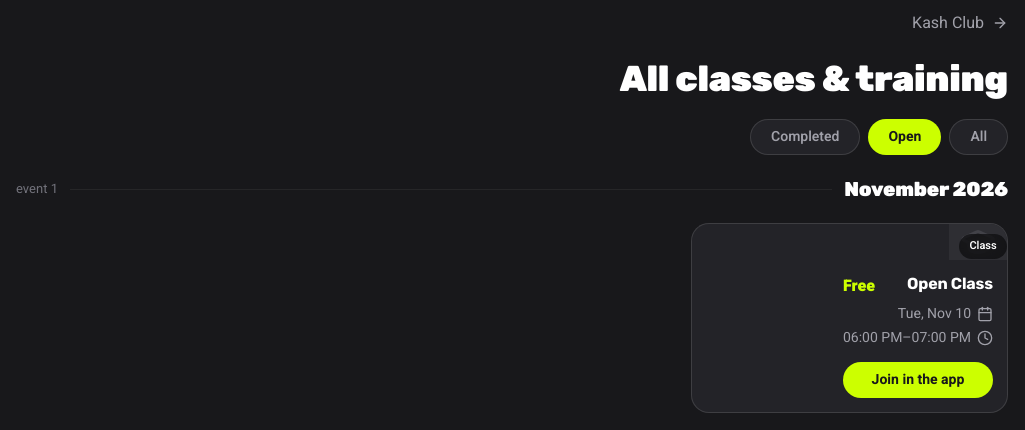
Test case: ClubEventsPage › clicking Completed lazily fetches the past list
The image size is (1025, 430).
Expected: the heading "Open Class" is shown, left=907, top=274, right=993, bottom=293
Click the button "Completed": click(805, 137) left=750, top=119, right=860, bottom=155
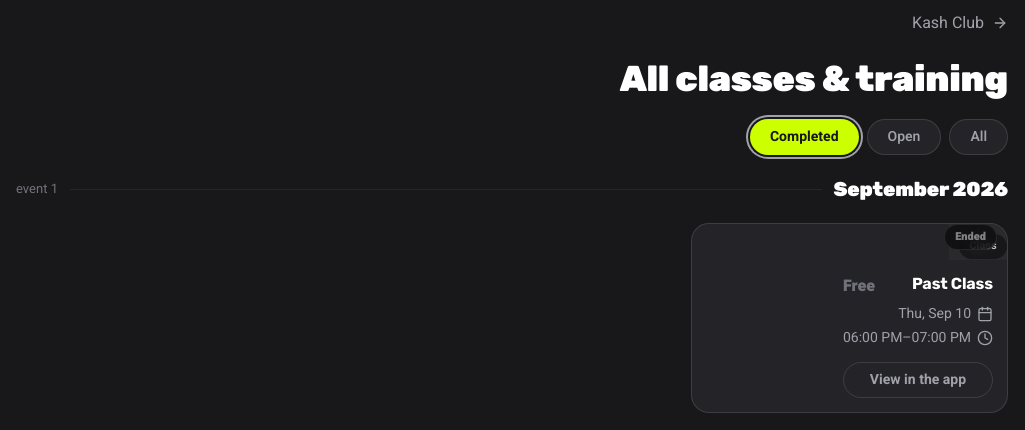
Now the heading "Past Class" is shown, box left=912, top=274, right=993, bottom=293
